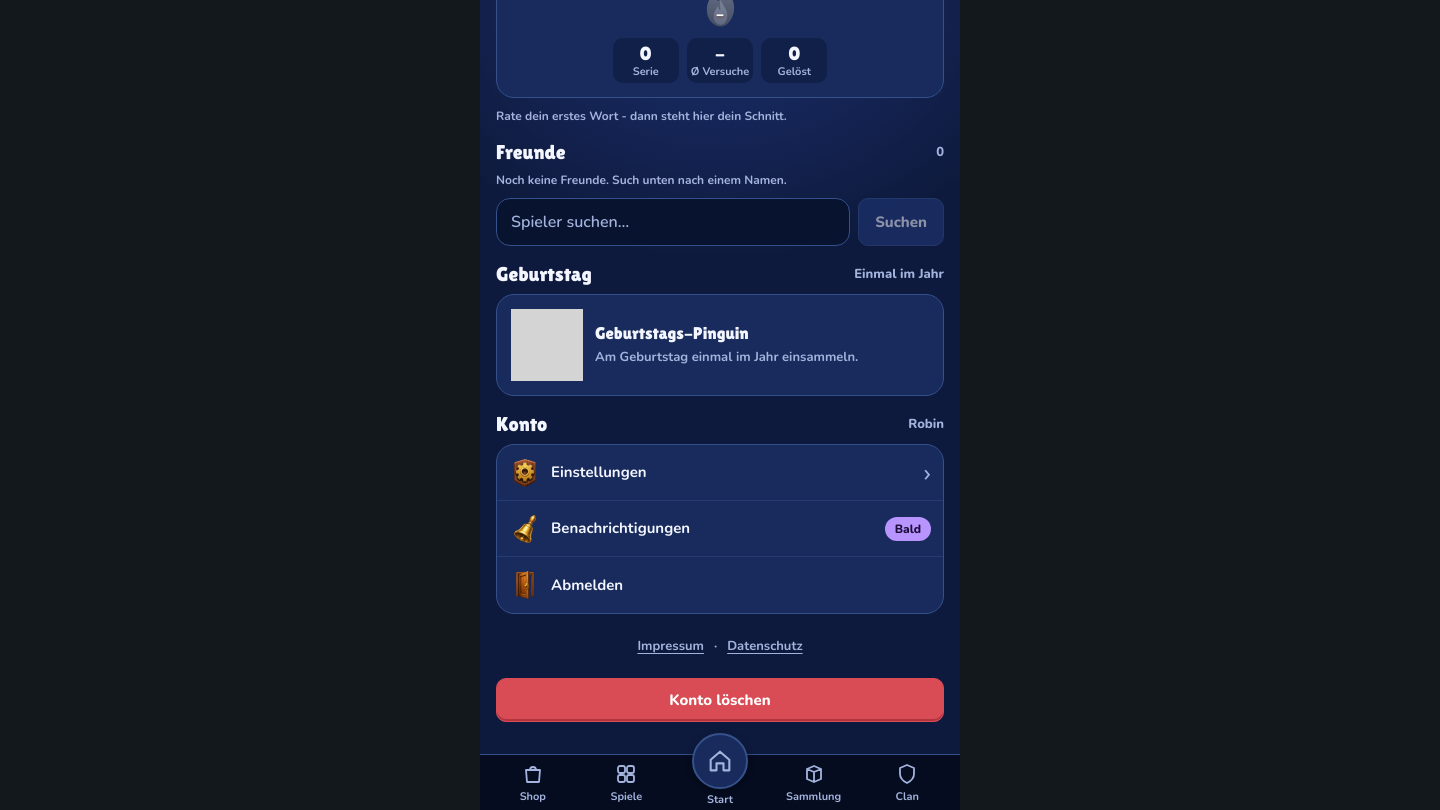
Scenario: Neues Hub: die restlichen Ansichten › schließt ein Blatt mit Escape und hängt es über die Reiterleiste
(page scrolled)
Click the button "Benachrichtigungen Bald".
click(525, 529)  # box [497, 501, 943, 557]
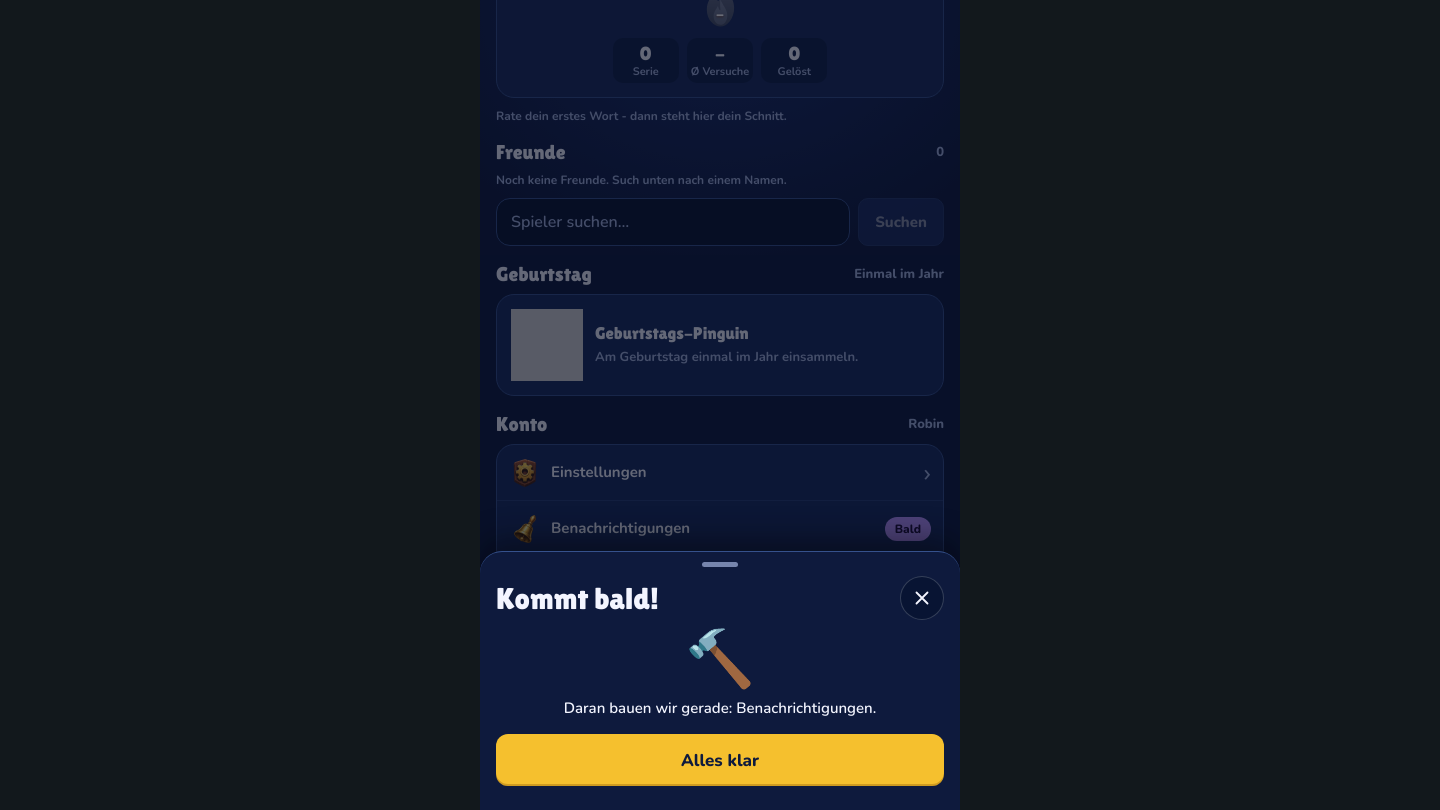
Expected: the element named "Kommt bald: Benachrichtigungen" is shown, [480, 0, 960, 809]
Press Escape
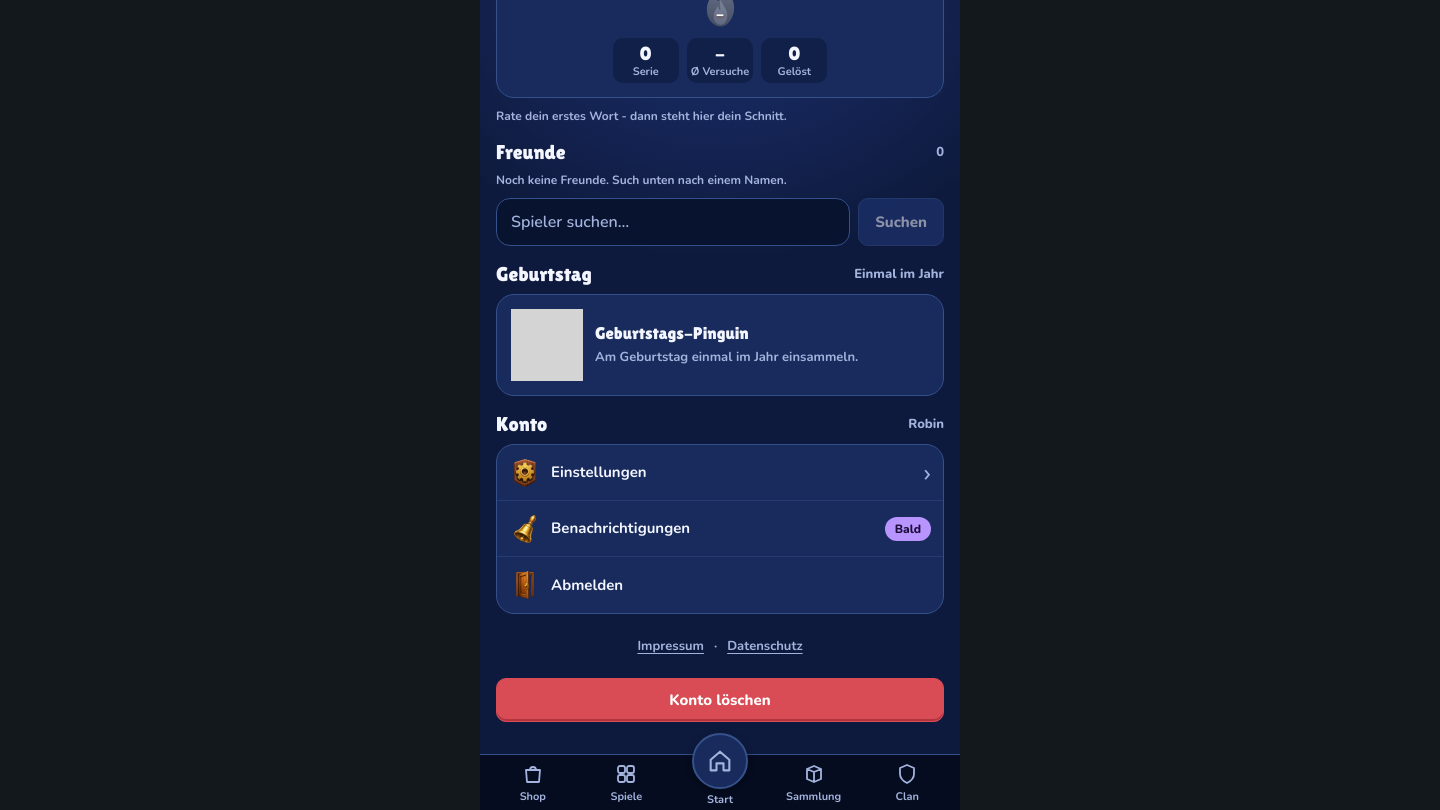
Now the heading "Kommt bald" is gone
